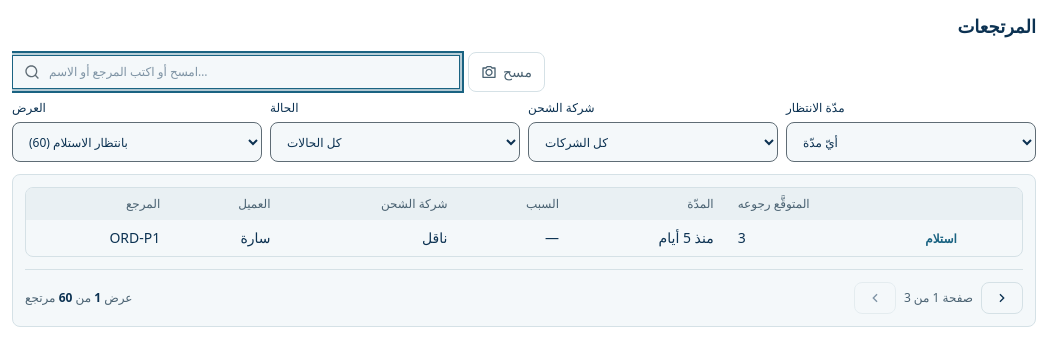
Scenario: the two views › — the record has its own columns, and no button: what was counted, by whom and when
Step 1. Select "تم استلامها (14)" in the dropdown labelled "العرض" → (137,142), box [12, 122, 262, 162]
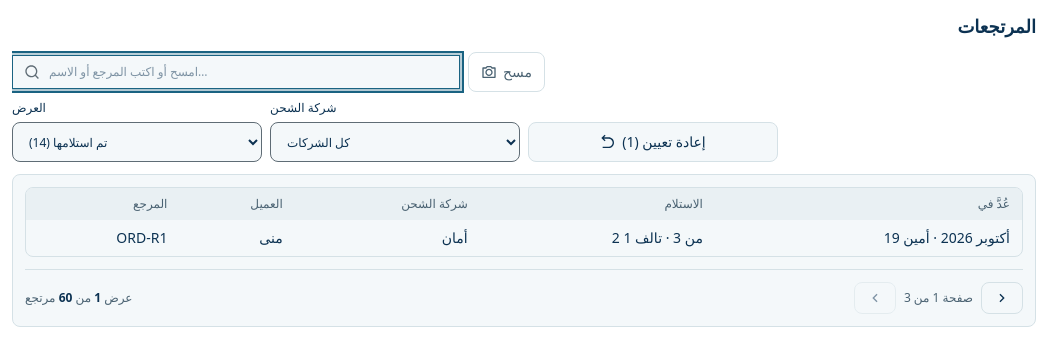
Check: the text "ORD-R1" shows "2 من 3 · تالف 1", box [26, 220, 1022, 256]
Check: the text "ORD-R1" shows "أمين", box [884, 228, 1010, 247]
